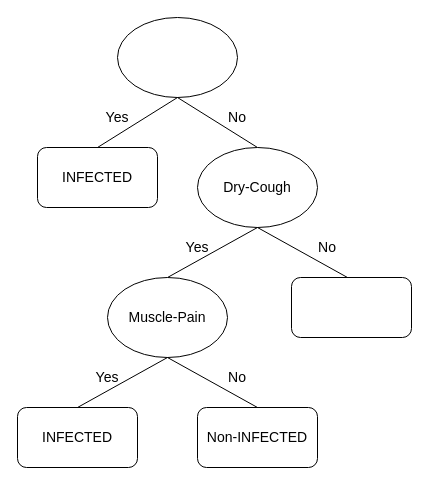
The diagram is 429 pixels wide and 485 high, and some of its shapes have lost their labels. Each missing label, with the box of its shape:
Lung-Inflammation: (116, 16, 238, 98)
Non-INFECTED: (290, 276, 412, 338)
